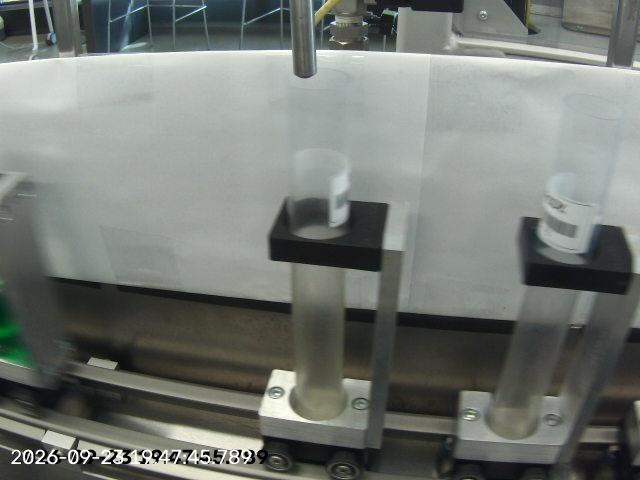vial: (482, 82, 625, 444), (257, 69, 372, 418)
